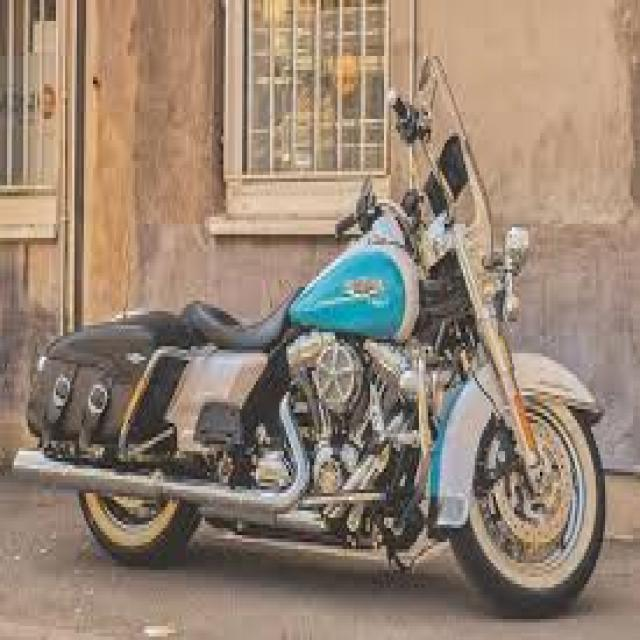Bike: (23, 91, 609, 615)
